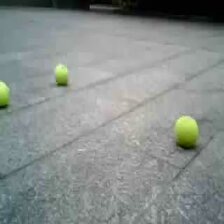tennis: (175, 116, 198, 146), (54, 64, 69, 84), (1, 80, 10, 107)
